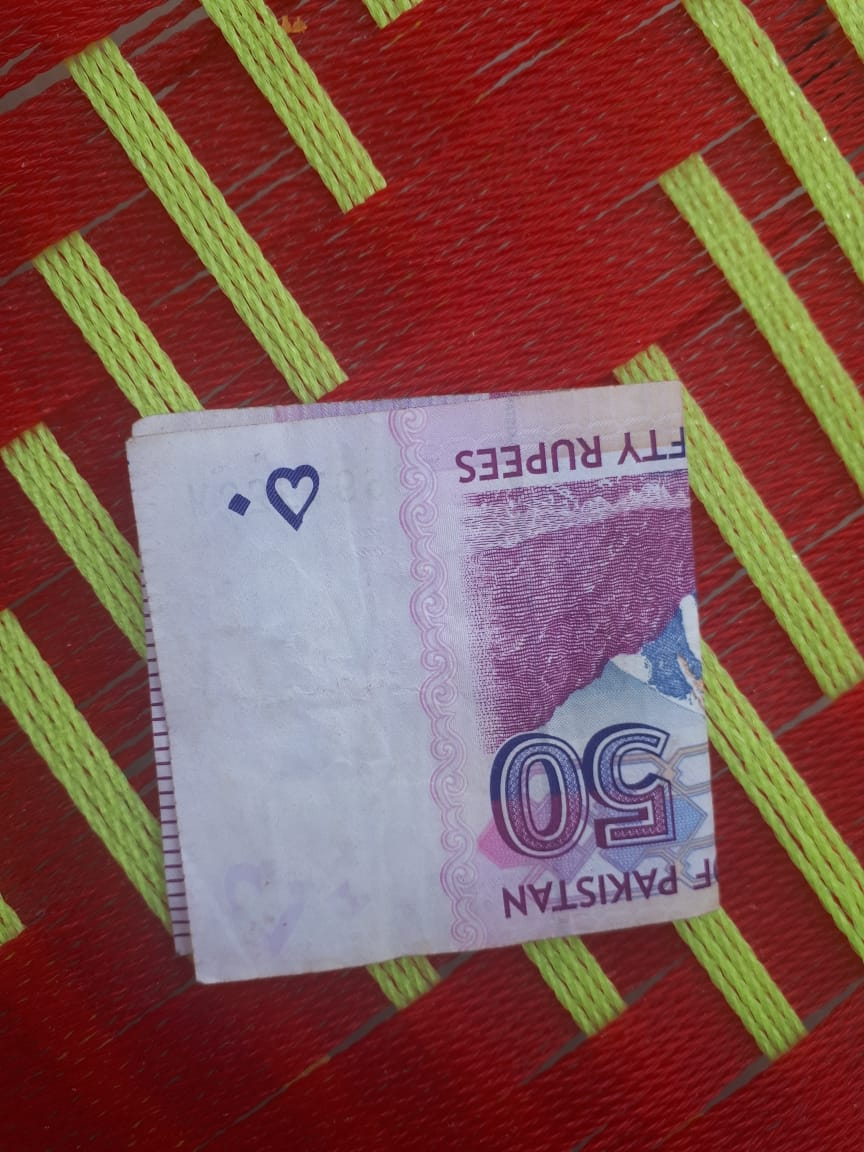50 rupee: (84, 355, 763, 1000)
